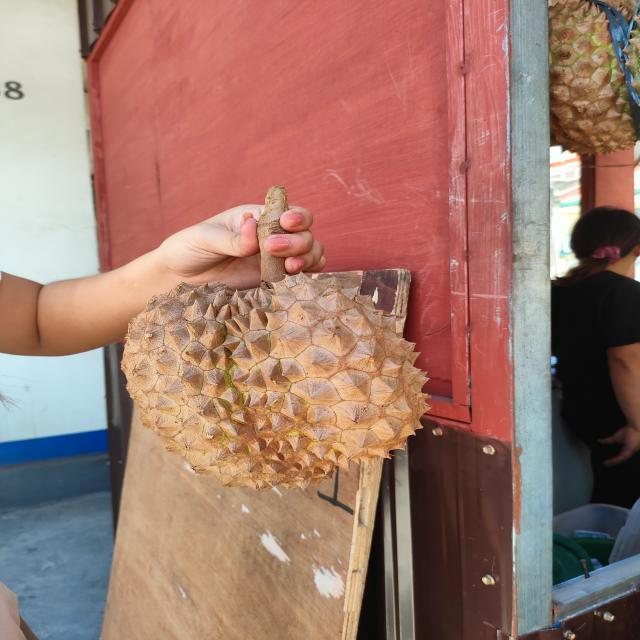mature: (115, 271, 431, 493)
